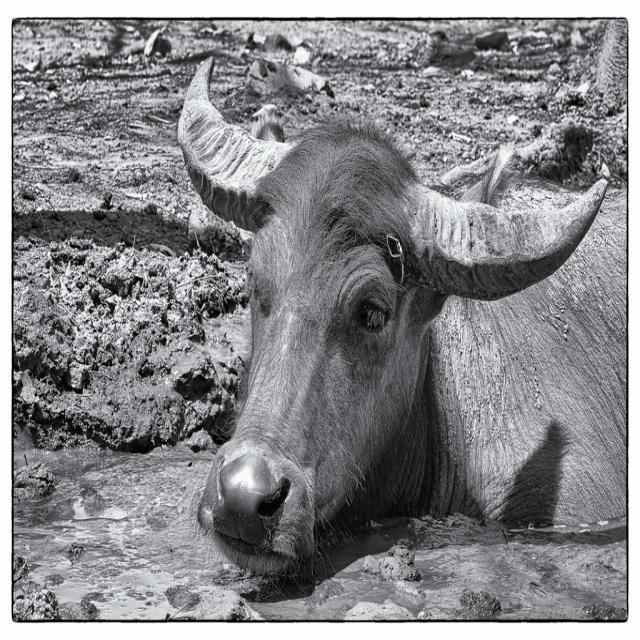Cattle: (177, 54, 626, 602)
